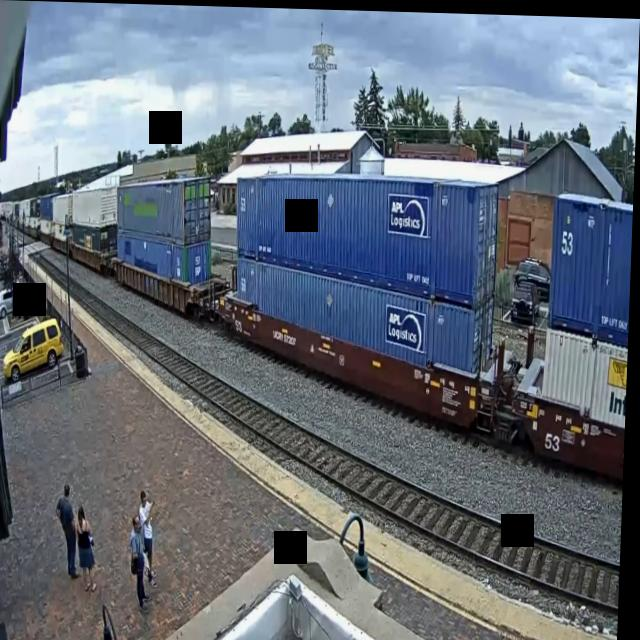container: (233, 167, 506, 313), (233, 247, 501, 381), (547, 180, 635, 350), (541, 319, 631, 438), (115, 169, 215, 250)
flatcar: (218, 290, 497, 440), (513, 379, 629, 481)
